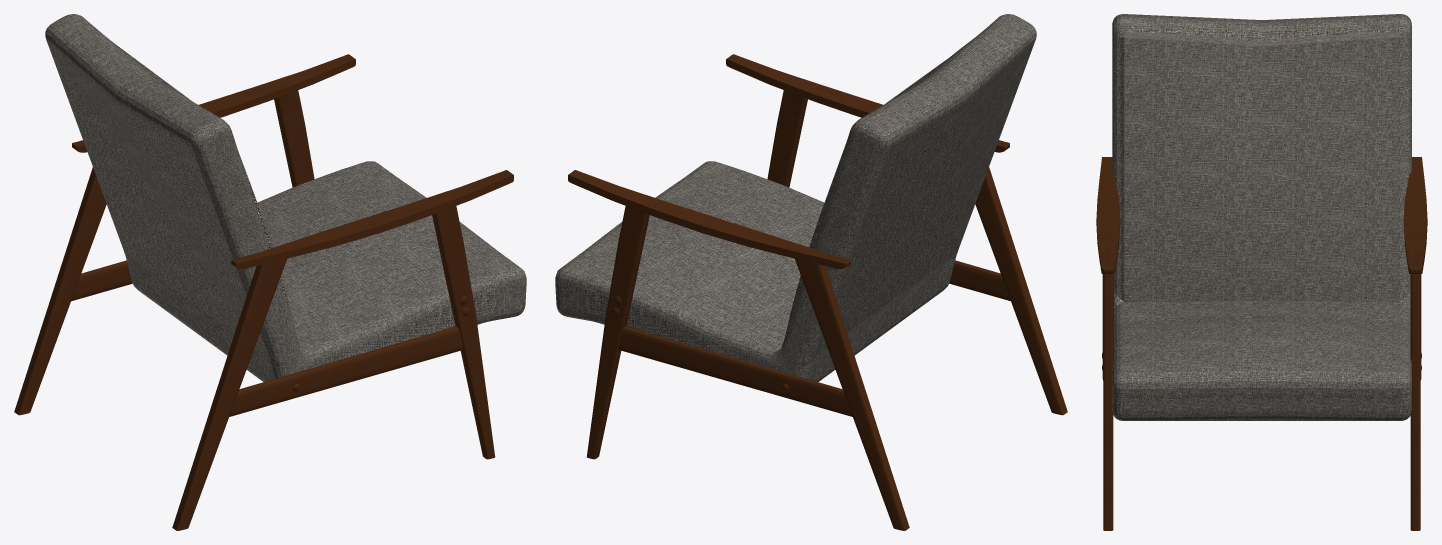
File: Dillion9.glb
3 views of the same model, side by side, from view 1: azimuth 30°, elevation 25°; view 2: azimuth 150°, elevation 25°; view 3: azimuth 270°, elevation 25° (orthographic). The views are drawn at different scales.
Parts seen in each view (by area): view 1: Cylinder.005, Cube.005, Cube.007, Cube.006, Cube.002, Cube.004, Cube.003, Cube.001, Cube; view 2: Cylinder.005, Cube.002, Cube, Cube.001, Cube.005, Cube.003, Cube.004, Cube.006, Cube.007; view 3: Cylinder.005, Cube.006, Cube.001, Cube.004, Cube.003.
Boxes of the visible parts, x1,y1,x2,y2 form: Cylinder.005: [45, 14, 526, 381]; Cube.005: [172, 259, 286, 530]; Cube.007: [229, 326, 462, 416]; Cube.006: [432, 206, 495, 459]; Cube.002: [14, 167, 106, 415]; Cube.004: [231, 170, 513, 269]; Cube.003: [72, 54, 355, 152]; Cube.001: [274, 90, 314, 187]; Cube: [71, 260, 132, 301]; Cylinder.005: [555, 14, 1036, 381]; Cube.002: [795, 258, 909, 530]; Cube: [619, 326, 852, 416]; Cube.001: [587, 206, 649, 459]; Cube.005: [975, 167, 1067, 415]; Cube.003: [568, 170, 850, 269]; Cube.004: [726, 54, 1009, 152]; Cube.006: [767, 90, 807, 187]; Cube.007: [949, 260, 1010, 301]; Cylinder.005: [1112, 14, 1411, 420]; Cube.006: [1103, 274, 1113, 530]; Cube.001: [1410, 274, 1420, 530]; Cube.004: [1096, 157, 1120, 273]; Cube.003: [1403, 157, 1427, 273].
Size of the model in its own units: 2.12 by 2.24 by 1.75.
Materials: 2 (2 with a texture image).
